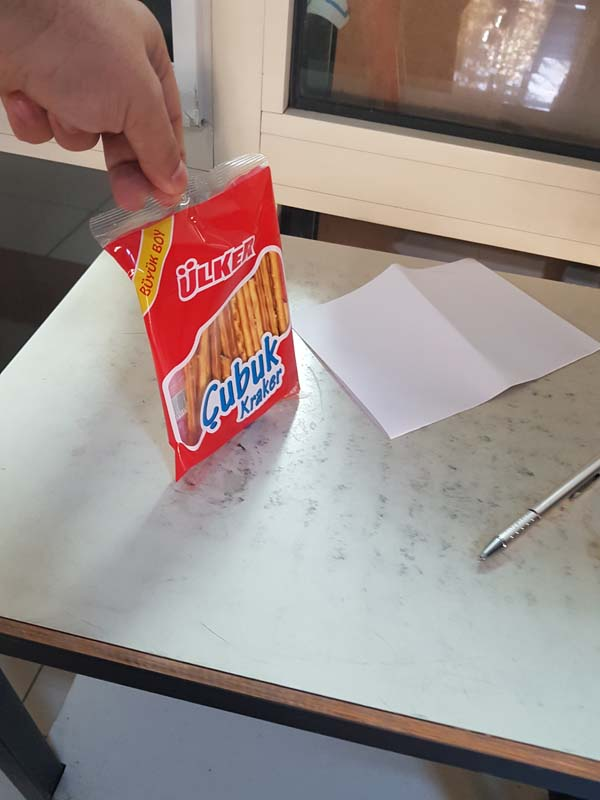eticubuk: (94, 153, 306, 485)
